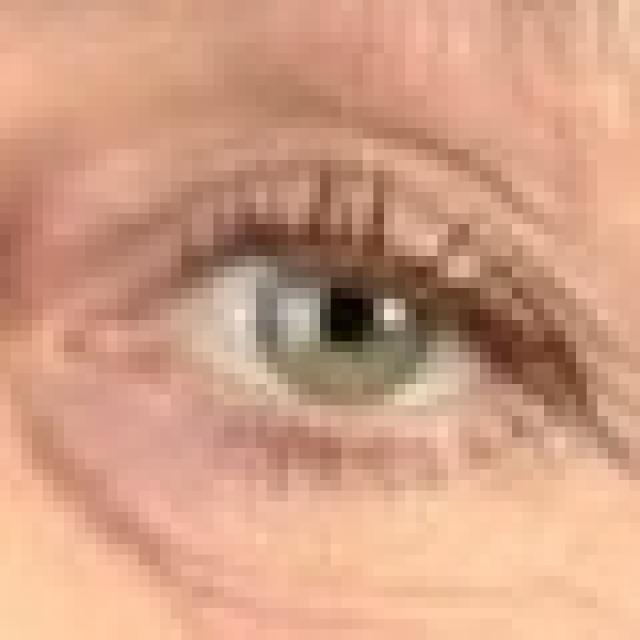eye: (2, 130, 640, 525)
gaze: (245, 230, 458, 414)
